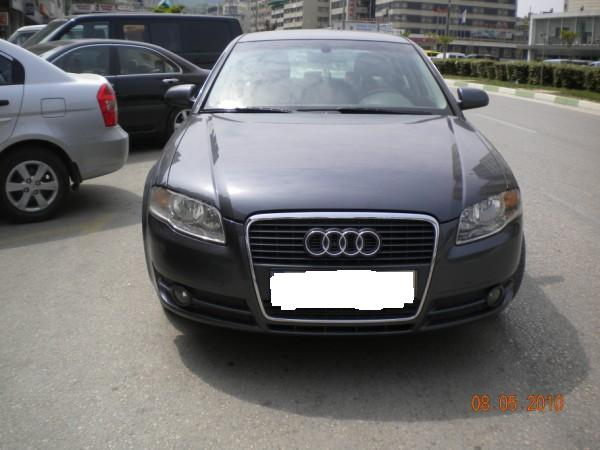audi: (299, 223, 384, 261)
